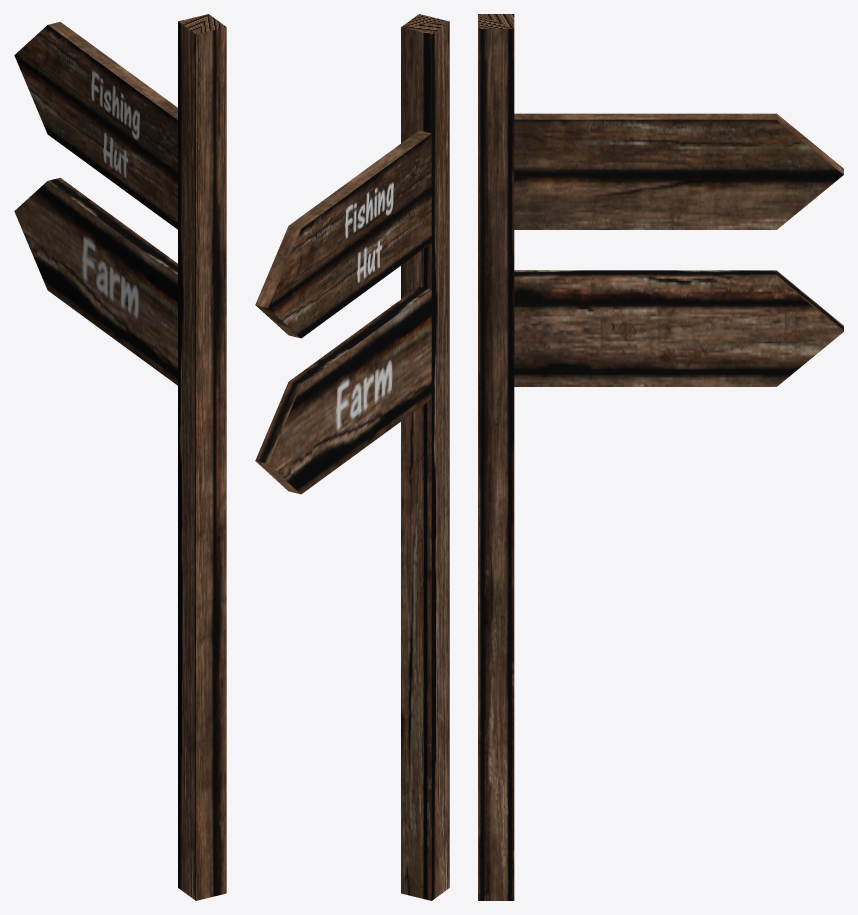
File: direction2.fbx
3 views of the same model, side by side, from view 1: azimuth 30°, elevation 25°; view 2: azimuth 150°, elevation 25°; view 3: azimuth 270°, elevation 25° (orthographic).
Visible parts, largest first — view 1: Plane.069; view 2: Plane.069; view 3: Plane.069.
Boxes of the visible parts, box(x1,y1,x2,y2) form: Plane.069: box(14, 14, 226, 900); Plane.069: box(255, 14, 449, 900); Plane.069: box(478, 14, 843, 900).
Size of the model in its own units: 12.9 by 348 by 132.
1 material, 1 textured.
